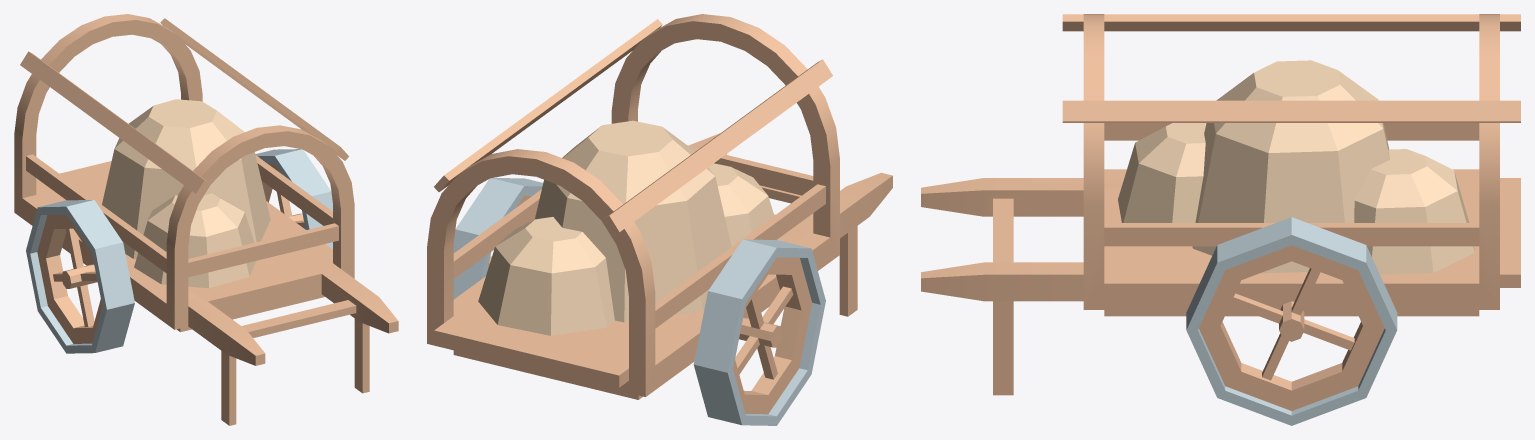
Rendered from cartHigh.glb.
3 renders of one model, left to right at view 1: azimuth 30°, elevation 25°; view 2: azimuth 150°, elevation 25°; view 3: azimuth 270°, elevation 25°, orthographic. The views are drawn at different scales.
Parts seen in each view (by area): view 1: cartHigh, hay, wheel.002, wheel.003; view 2: cartHigh, hay, wheel.002, wheel.003; view 3: cartHigh, hay, wheel.003.
Boxes of the visible parts, box(x1,y1,x2,y2) form: cartHigh: box(14, 14, 398, 425); hay: box(102, 99, 270, 288); wheel.002: box(26, 200, 134, 353); wheel.003: box(255, 149, 332, 249); cartHigh: box(427, 14, 892, 399); hay: box(478, 120, 781, 335); wheel.002: box(693, 239, 825, 425); wheel.003: box(453, 178, 543, 299); cartHigh: box(921, 14, 1520, 395); hay: box(1118, 60, 1474, 274); wheel.003: box(1186, 217, 1397, 425).
Size of the model in its own units: 0.8525 by 0.8605 by 1.44.
